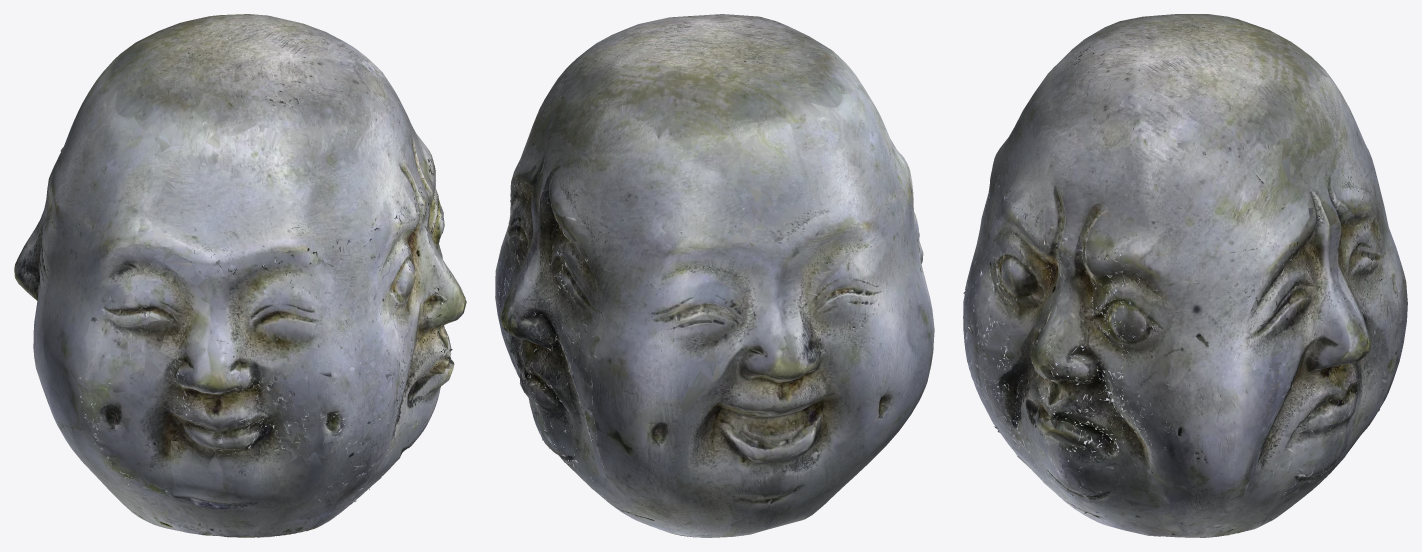
The model's file is buddha-user-v52.glb.
3 views of the same model, side by side, from view 1: azimuth 30°, elevation 25°; view 2: azimuth 150°, elevation 25°; view 3: azimuth 270°, elevation 25° (orthographic).
Parts seen in each view (by area): view 1: Object_4, Object_3, Object_2, Object_5; view 2: Object_2, Object_4, Object_3; view 3: Object_4, Object_3, Object_2, Object_5.
Boxes of the visible parts, x1,y1,x2,y2 form: Object_4: (51, 14, 442, 532); Object_3: (84, 148, 466, 537); Object_2: (14, 157, 465, 537); Object_5: (216, 161, 447, 516); Object_2: (571, 173, 934, 537); Object_4: (497, 14, 925, 525); Object_3: (495, 159, 934, 516); Object_4: (963, 14, 1401, 537); Object_3: (963, 160, 1402, 537); Object_2: (963, 149, 1407, 529); Object_5: (963, 175, 1122, 500).
Bounding box in the file's own units: 0.399 × 0.44 × 0.3863.
Materials: 1 (1 with a texture image).
